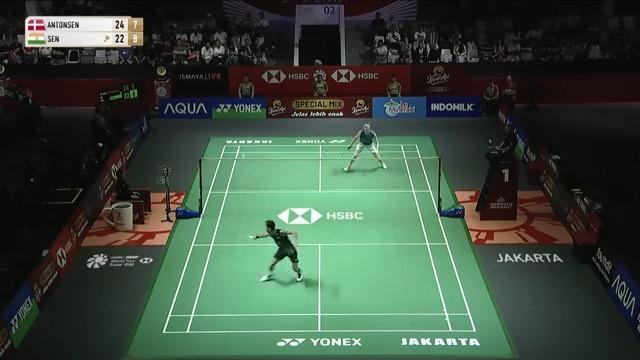Shuttlecock: (239, 151, 249, 161)
